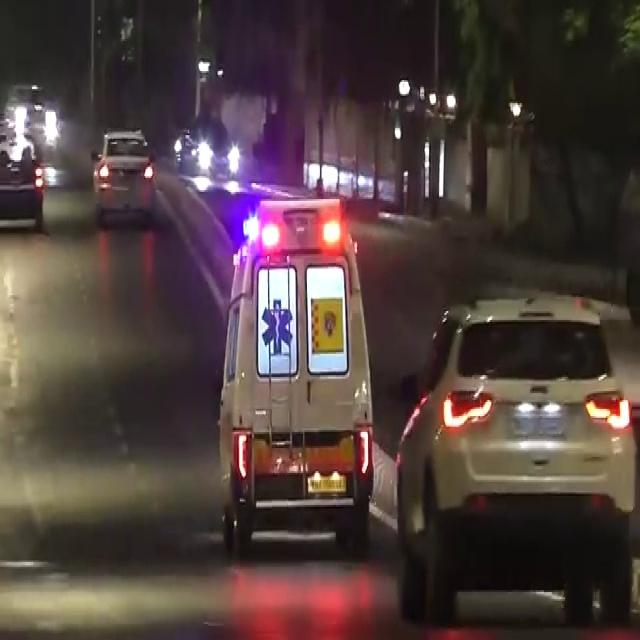ambulance: (226, 200, 371, 505)
